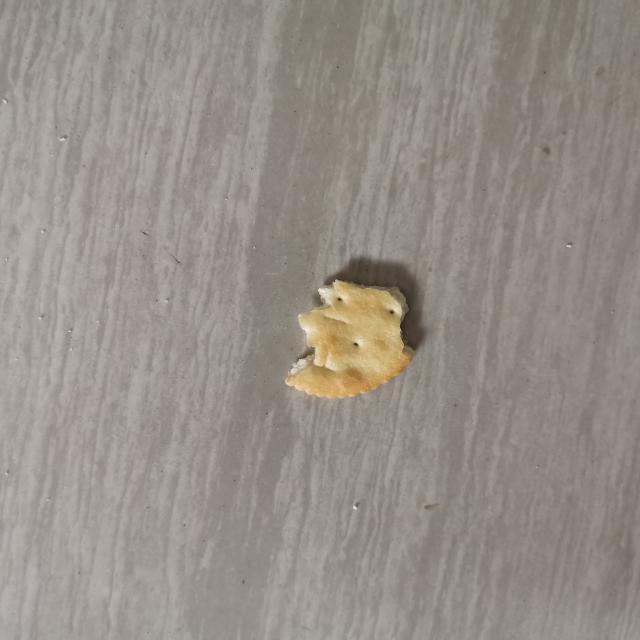Broken: (284, 277, 415, 399)
